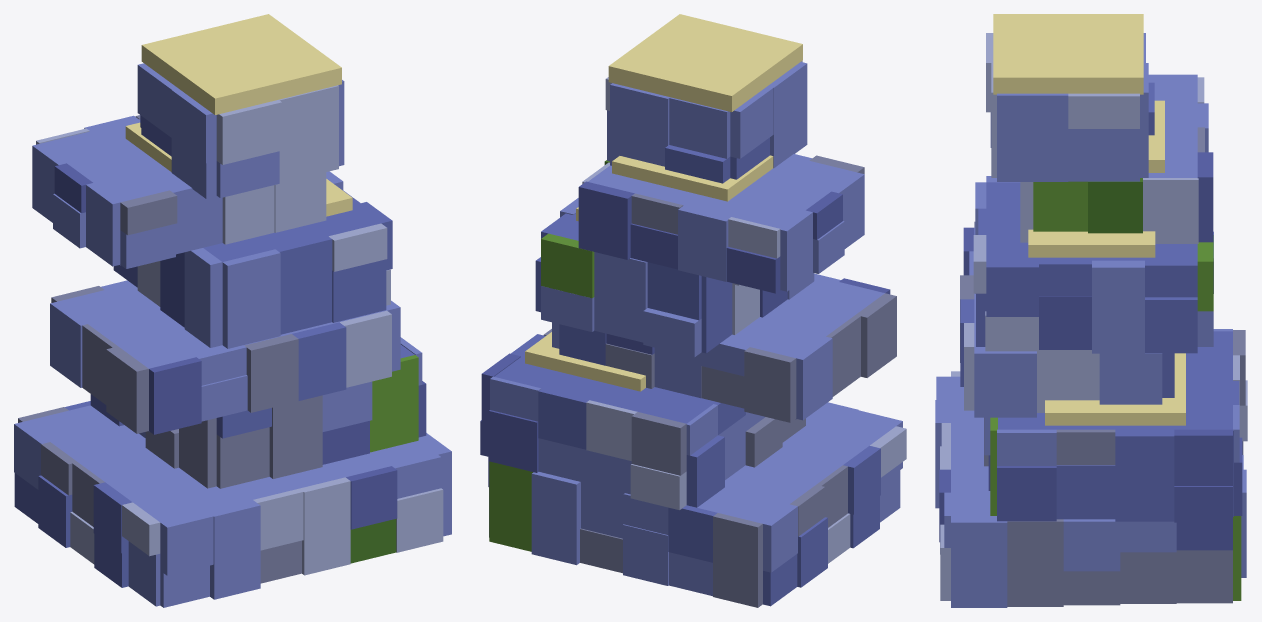
File: ReefPinnacle.obj
The picture shows the model from 3 angles, left to right: view 1: azimuth 30°, elevation 25°; view 2: azimuth 150°, elevation 25°; view 3: azimuth 270°, elevation 25°; orthographic projection. The views are drawn at different scales.
Visible parts, largest first — view 1: ReefPinnacle; view 2: ReefPinnacle; view 3: ReefPinnacle.
Boxes of the visible parts, bbox=[...] form: ReefPinnacle: bbox=[14, 14, 451, 607]; ReefPinnacle: bbox=[480, 14, 906, 607]; ReefPinnacle: bbox=[935, 14, 1247, 607].
Bounding box in the file's own units: 15.38 × 22.8 × 13.29.
